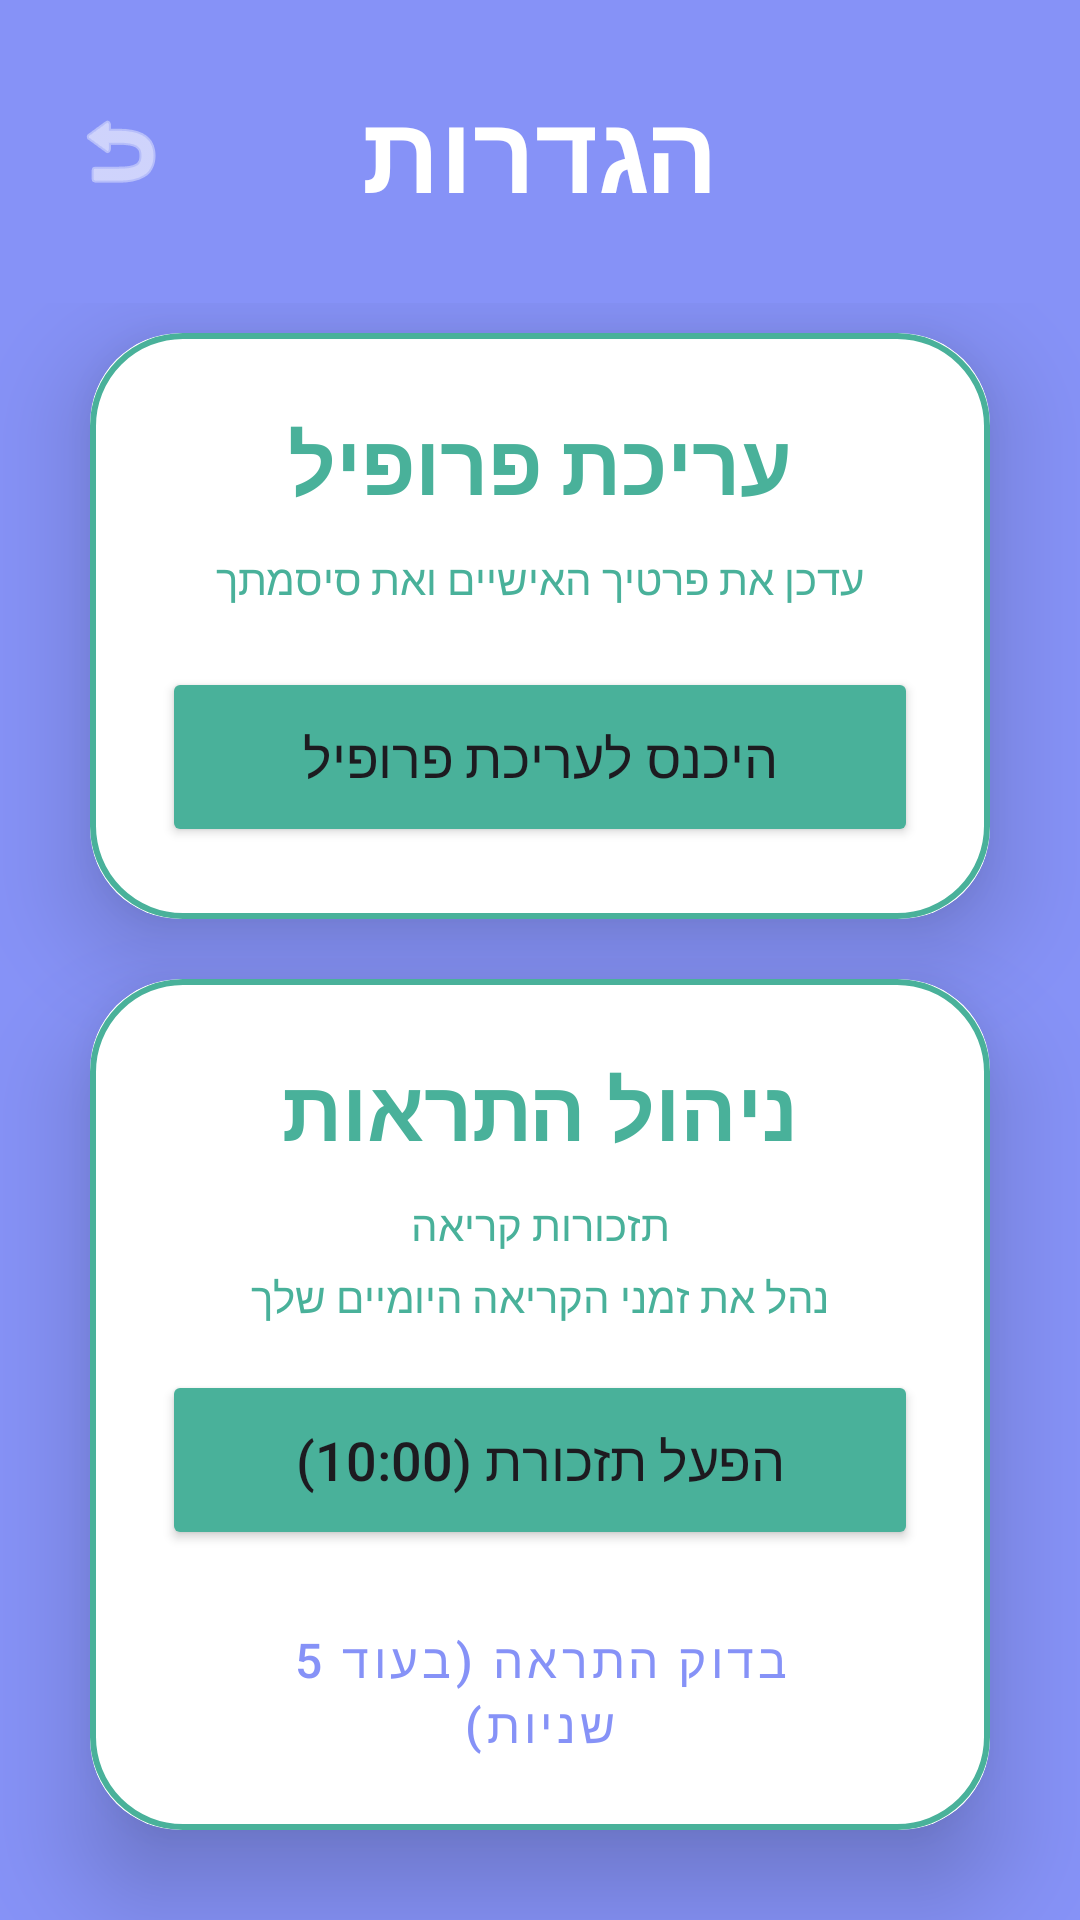

Screen size 1080 x 1920. Icon name, then its box in pixels as box(x1, y1, x2, y2):
revert: box(87, 121, 156, 183)
